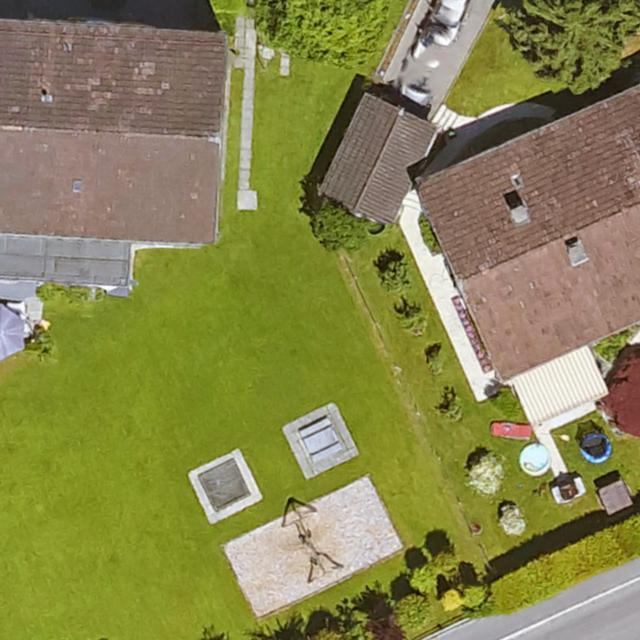tree: (513, 2, 621, 86), (269, 0, 370, 66), (317, 210, 355, 251), (395, 600, 433, 630), (472, 460, 502, 493), (24, 330, 55, 359), (411, 566, 436, 591), (384, 266, 406, 289), (504, 512, 525, 535), (405, 313, 427, 334), (437, 556, 457, 577), (464, 587, 483, 606), (445, 401, 462, 421), (445, 591, 461, 611), (429, 352, 444, 373)
